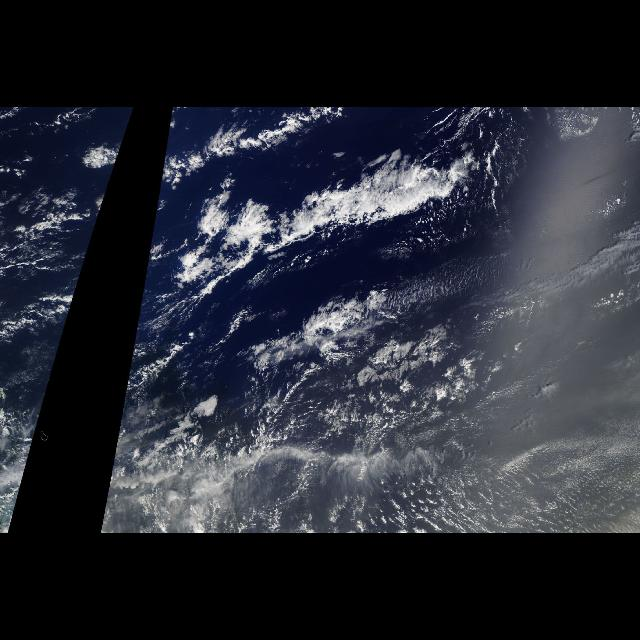Fish: (182, 115, 478, 292)
Sugar: (143, 358, 629, 532)
